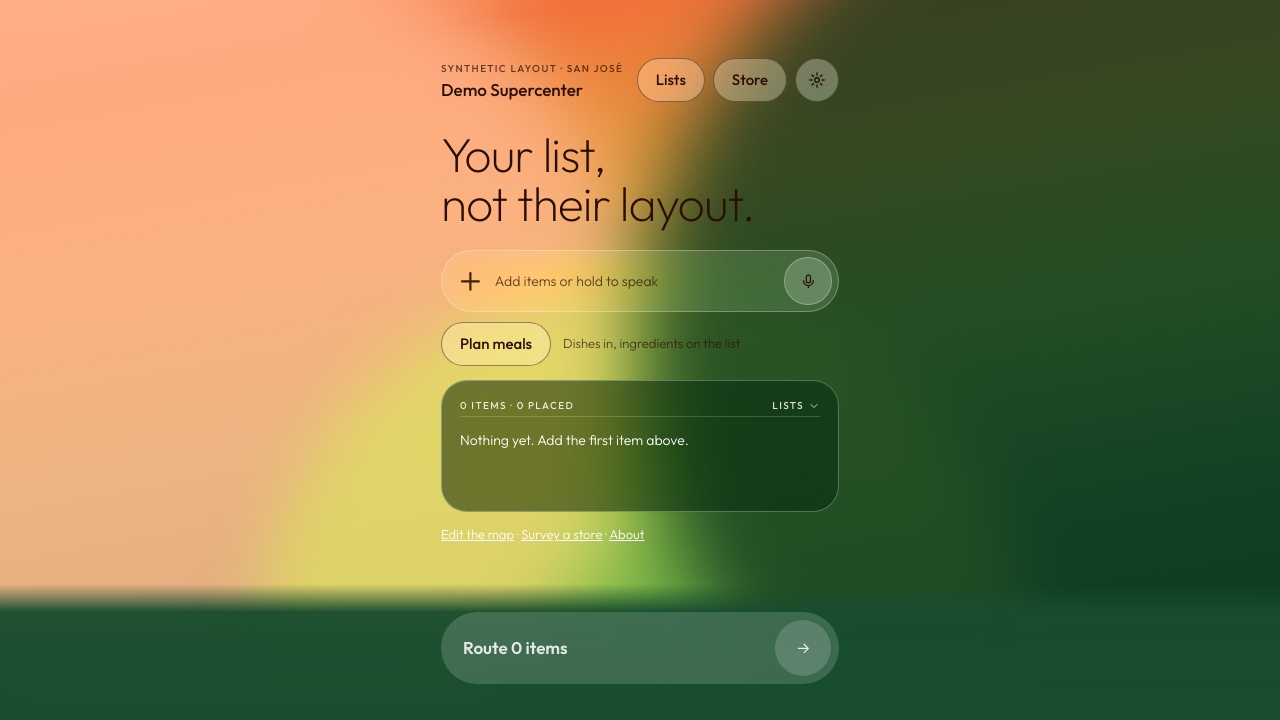
Test: saved locations from an older map › the app boots; the stale item that nothing names shows Needs a place; the route covers the rest
In the field labelled "Add items or hold to speak": (634, 281) [495,260,774,302], type "oat milk, qwzx gizmo, paneer, bananas"
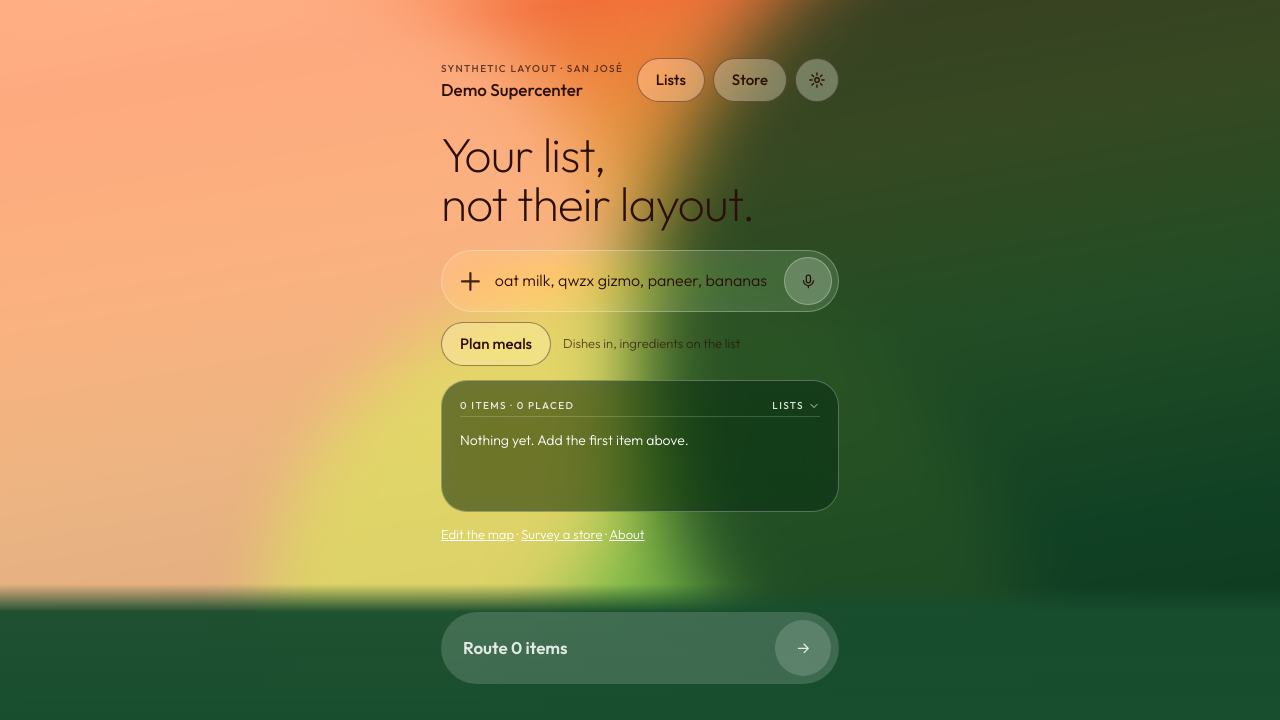
Submit the form named "add items", box [441,250,839,312]
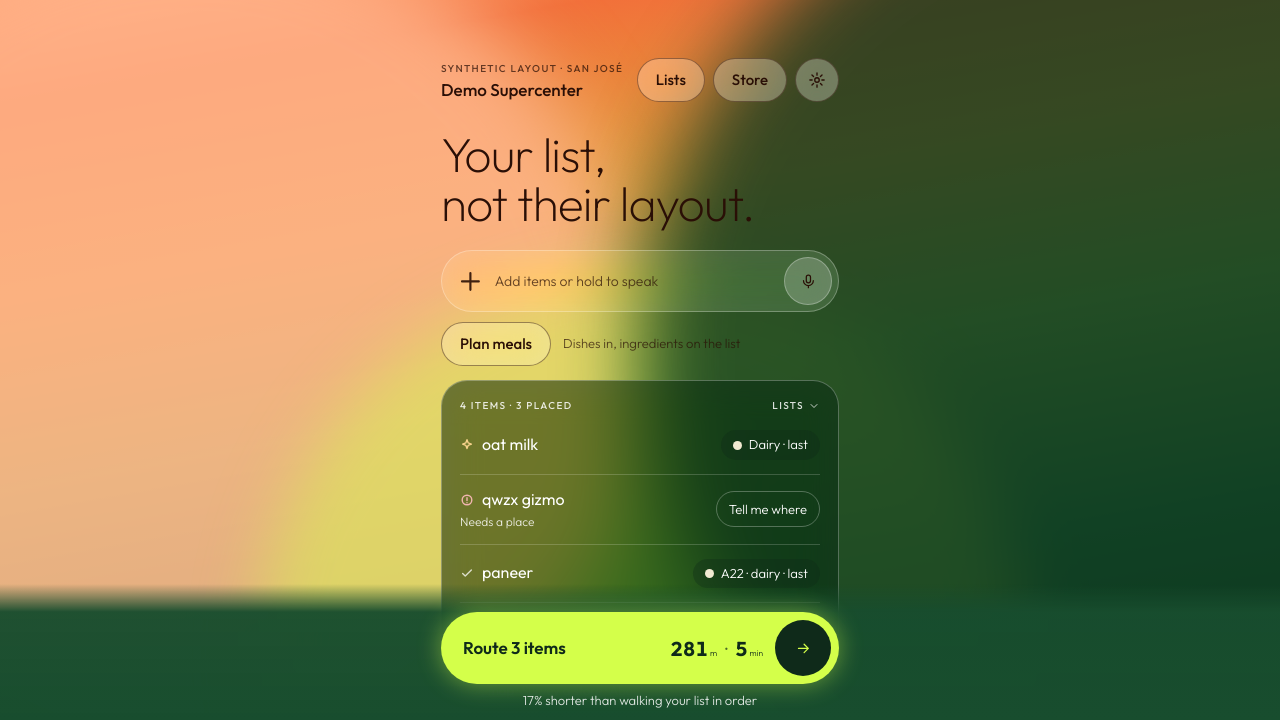
Check: the text "4 items · 3 placed" is shown, box [460,399,573,412]
Check: the text "Needs a place" is shown, box [460,514,534,529]
Click the button "Route 3 items 281m · 5min": (514, 647) [441,612,839,684]
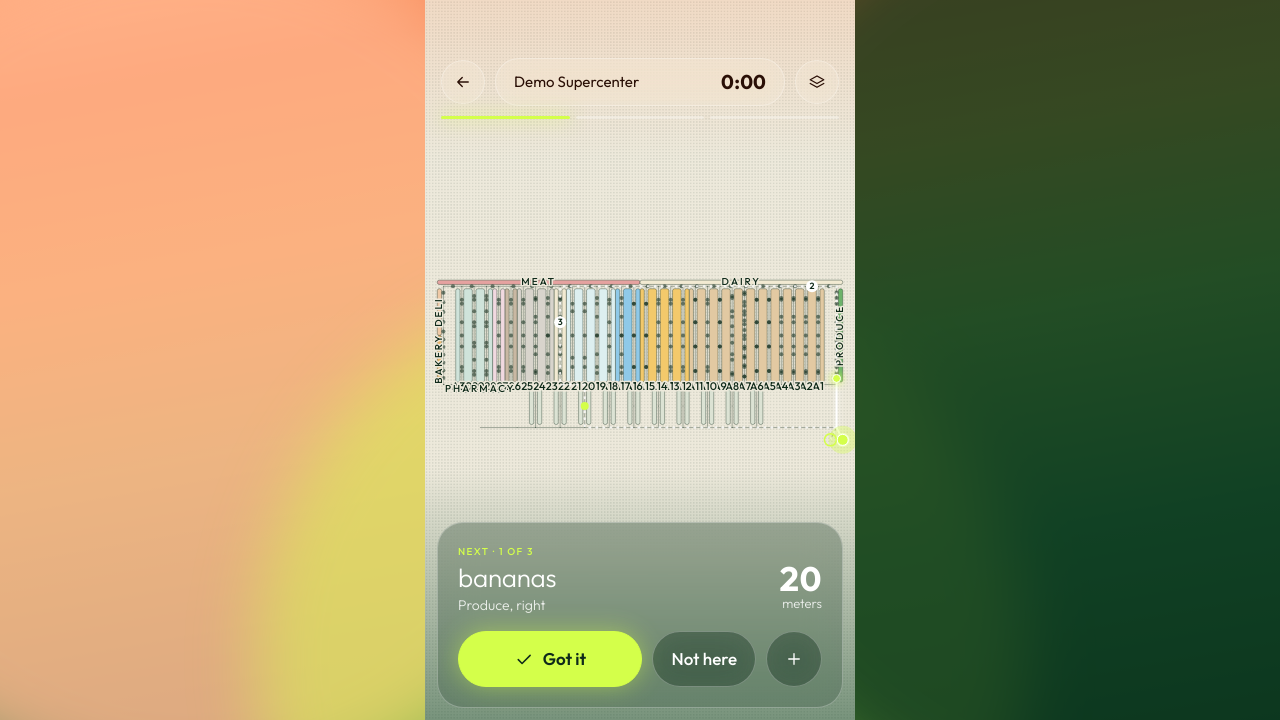
Check: the text "Next · 1 of 3" is shown, box [458,545,534,558]
